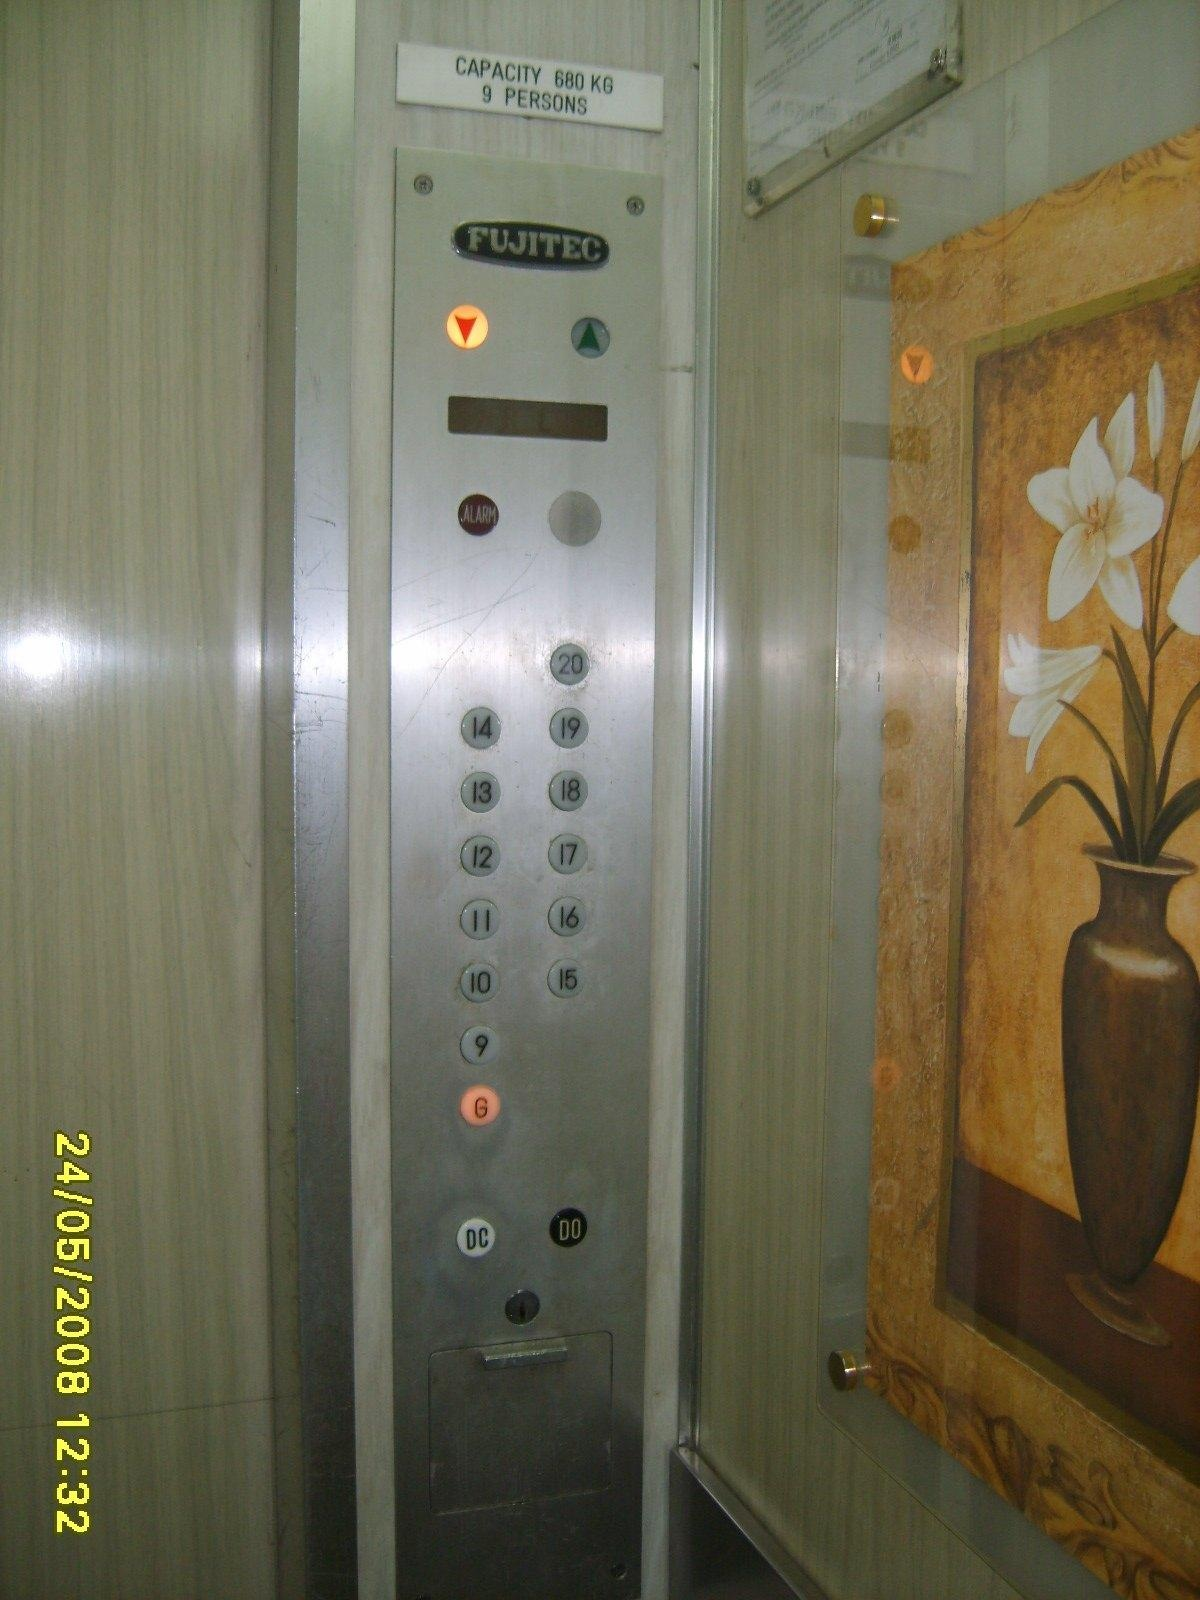10: (458, 959, 504, 1004)
11: (458, 897, 503, 942)
12: (458, 834, 504, 879)
13: (458, 769, 504, 814)
14: (458, 706, 504, 750)
15: (545, 956, 591, 1002)
16: (545, 894, 591, 940)
17: (546, 830, 592, 876)
18: (546, 769, 592, 813)
19: (547, 706, 592, 750)
20: (548, 641, 594, 687)
9: (458, 1023, 503, 1068)
D0: (548, 1204, 587, 1249)
DC: (458, 1217, 497, 1260)
G: (459, 1083, 505, 1128)
down: (446, 304, 489, 350)
empty: (545, 488, 604, 551)
keyhole: (500, 1286, 541, 1329)
text_alarm: (455, 493, 500, 537)
up: (568, 314, 611, 362)
